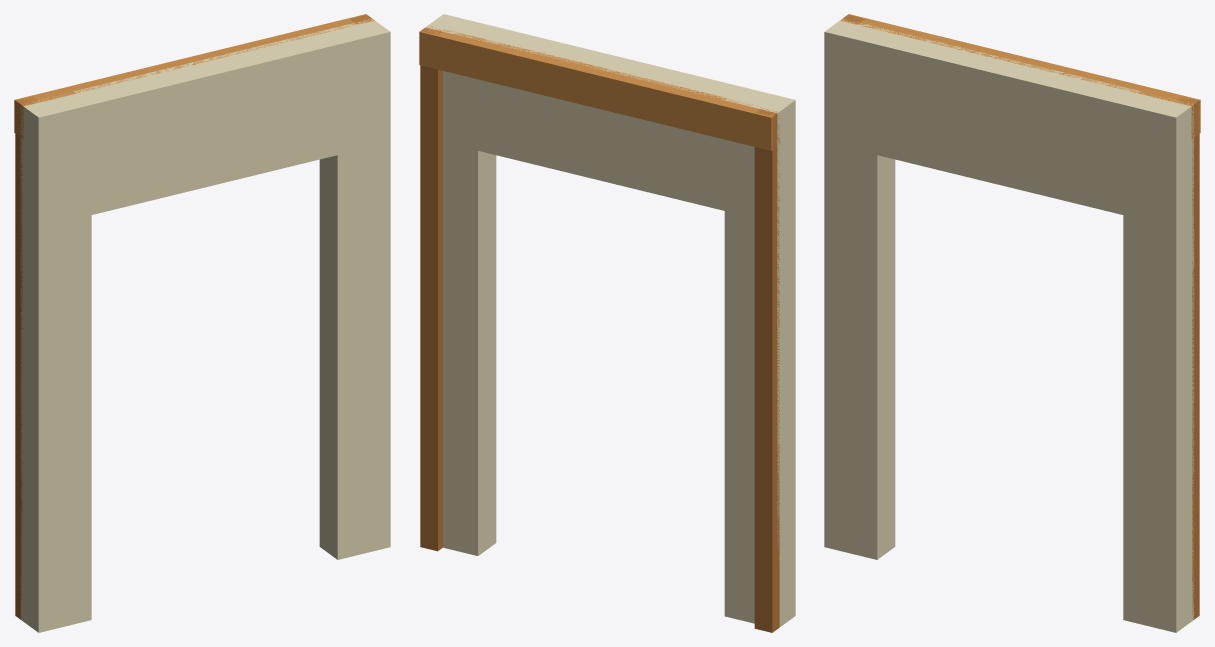
File: door.glb
3 renders of one model, left to right at view 1: azimuth 30°, elevation 25°; view 2: azimuth 150°, elevation 25°; view 3: azimuth 330°, elevation 25°, orthographic.
Visible parts, largest first — view 1: Shared_door; view 2: Shared_door; view 3: Shared_door.
Boxes of the visible parts, x1,y1,x2,y2 form: Shared_door: (14,14,390,632); Shared_door: (419,14,795,632); Shared_door: (824,14,1200,632).
Size of the model in its own units: 2 by 2.8 by 0.24.
